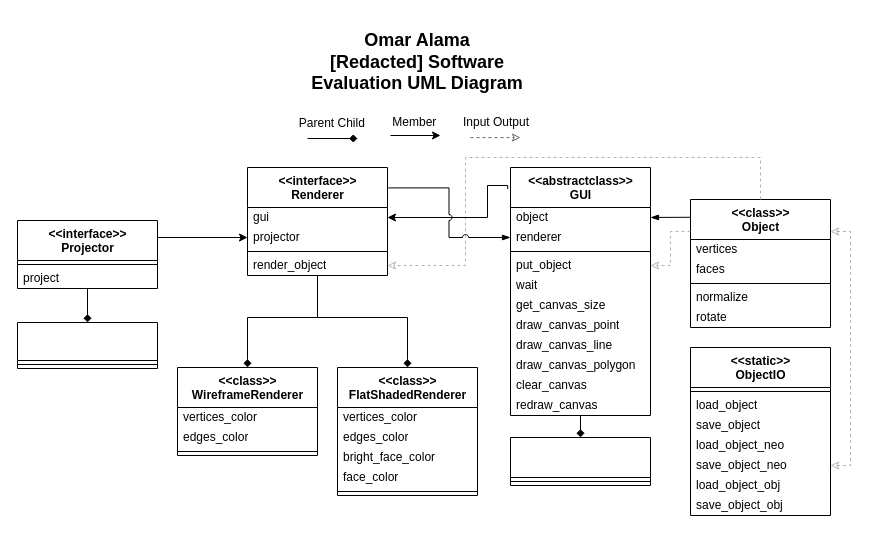
This 877x533 diagram has some shape labels left out. Here are the shapes that lost their labels. From the top down, the centre of each, then its label:
At pixel 87 345: "<<class>> OrthograpicProjector".
At pixel 580 461: "<<class>> TkinterGUI".
